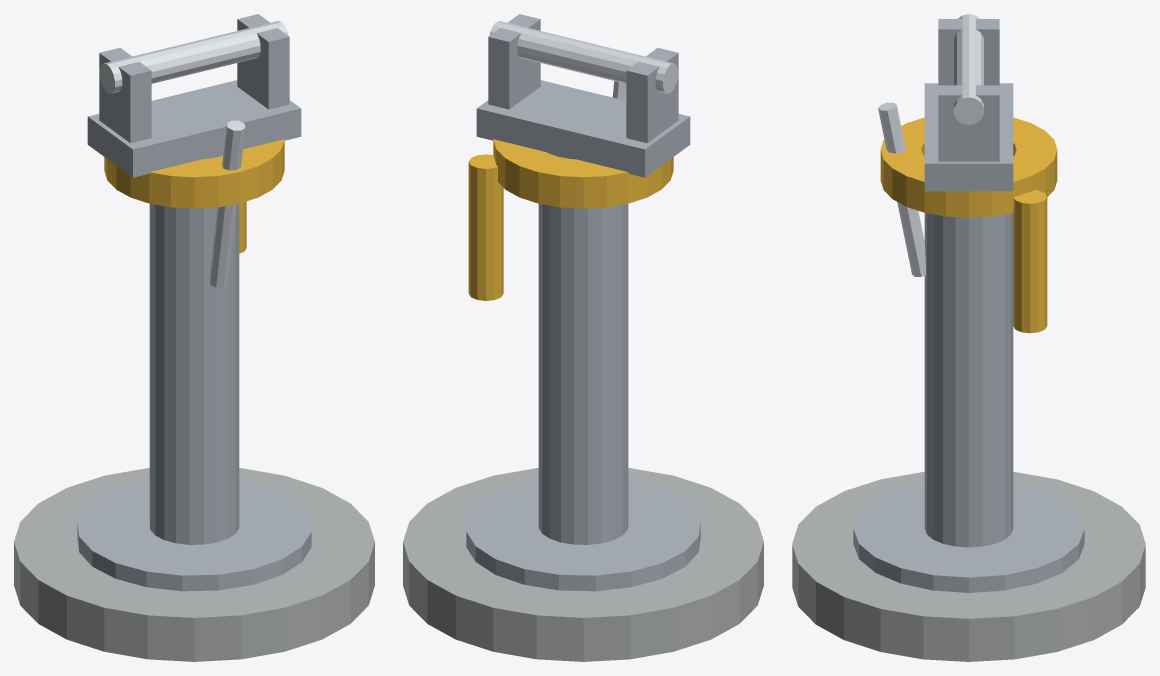
Rendered from ENERGY-006.glb.
3 views of the same model, side by side, from view 1: azimuth 30°, elevation 25°; view 2: azimuth 150°, elevation 25°; view 3: azimuth 270°, elevation 25° (orthographic). The views are drawn at different scales.
Parts seen in each view (by area): view 1: ENERGY-006; view 2: ENERGY-006; view 3: ENERGY-006.
Boxes of the visible parts, x1,y1,x2,y2 form: ENERGY-006: (14, 14, 374, 661); ENERGY-006: (403, 14, 763, 661); ENERGY-006: (792, 14, 1145, 661).
Size of the model in its own units: 1.04 by 1.73 by 1.04.
